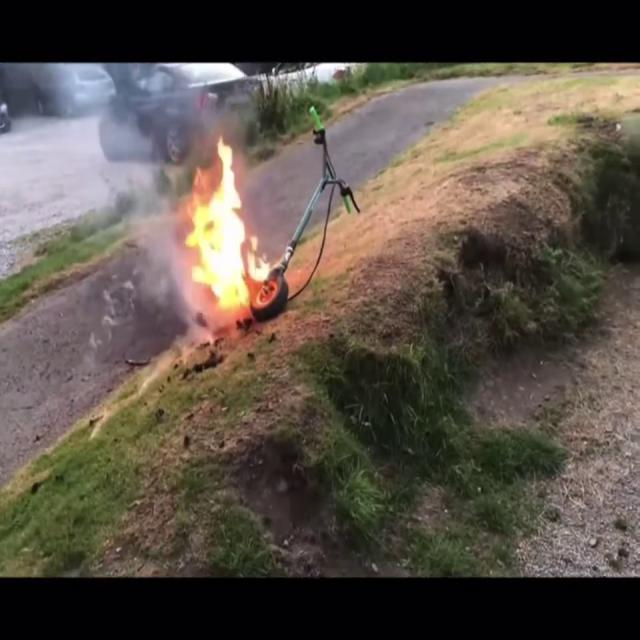Fire: (182, 136, 269, 314)
Smoke: (104, 69, 192, 311)
